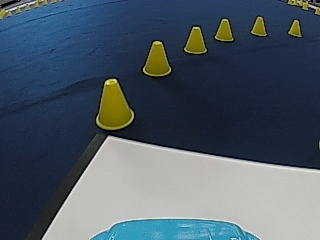cone: (95, 79, 133, 129), (142, 40, 172, 76), (184, 25, 207, 54), (214, 18, 234, 41), (251, 16, 267, 36), (287, 19, 302, 37)
